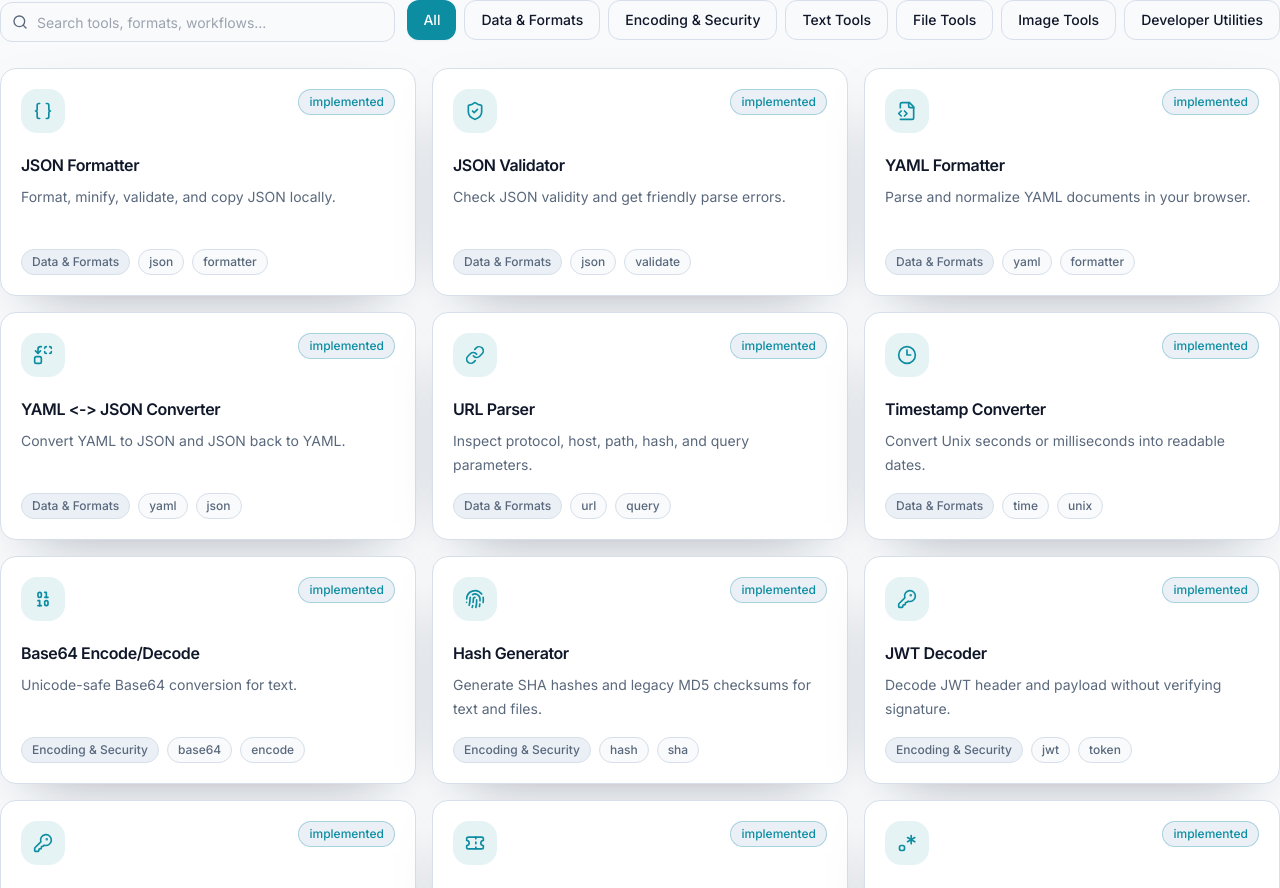
ToolSearch › filters tools by keyword
Expected: the heading "JSON Formatter" is shown, top-left (21, 155), bottom-right (139, 175)
In the field with placeholder "Search tools, formats, workflows...": [198, 22] box top-left (0, 2), bottom-right (395, 42), type "lorem"
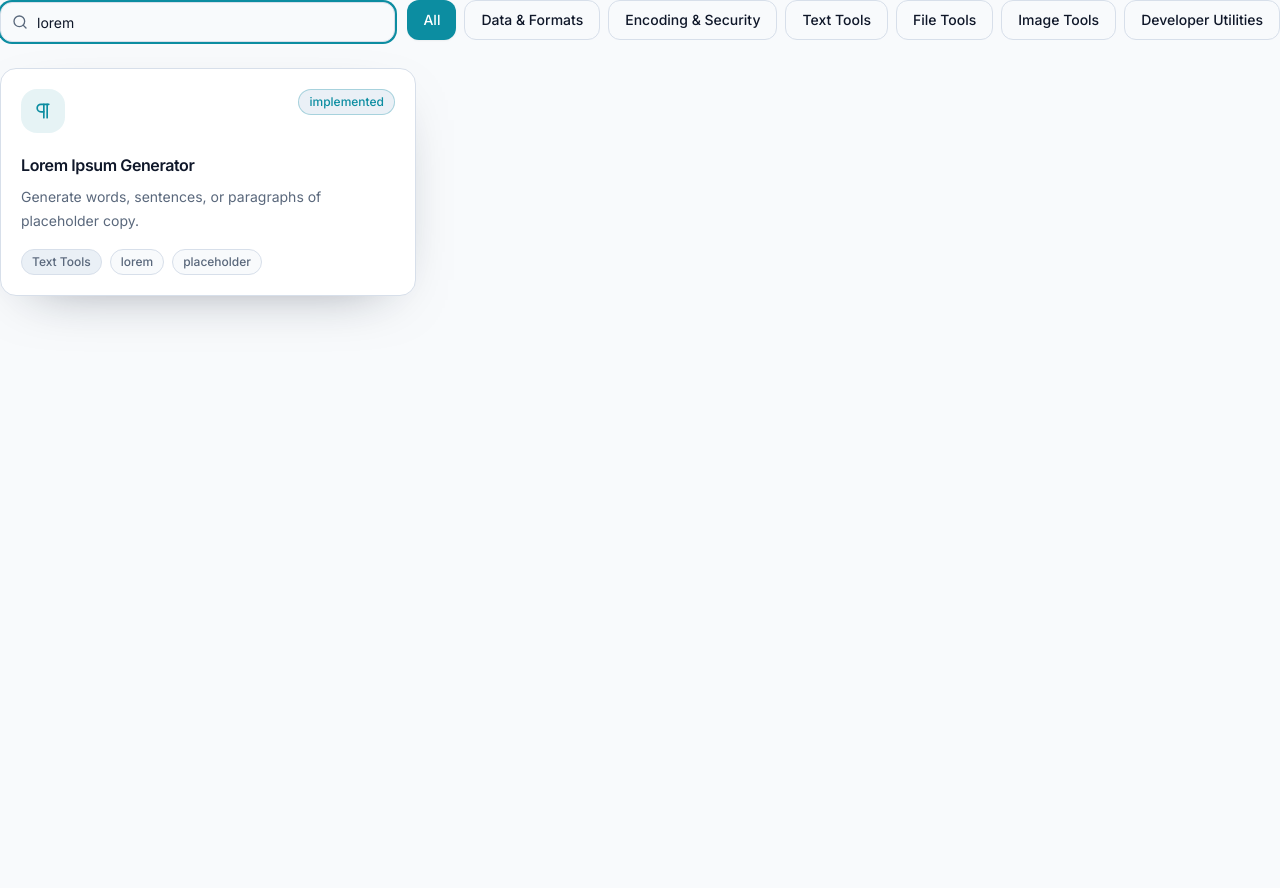
Expected: the heading "Lorem Ipsum Generator" is shown, top-left (21, 155), bottom-right (194, 175)
Expected: the link "JSON Formatter" is gone
